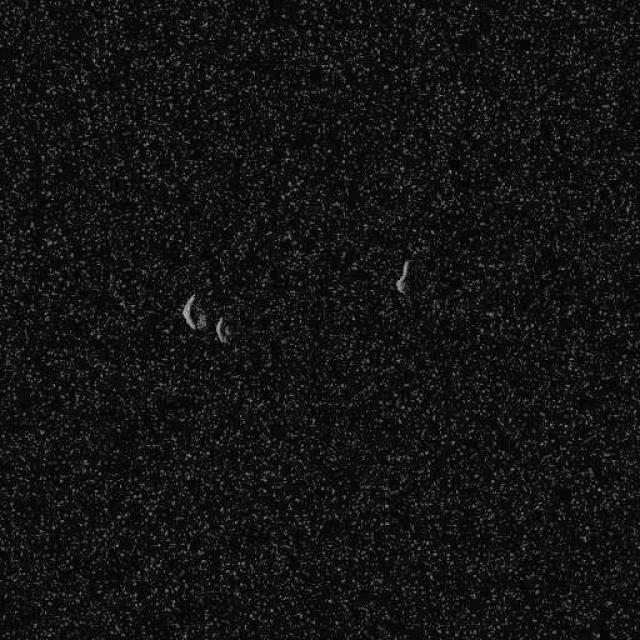D2: (180, 292, 206, 332), (394, 258, 410, 294), (214, 315, 231, 344)
